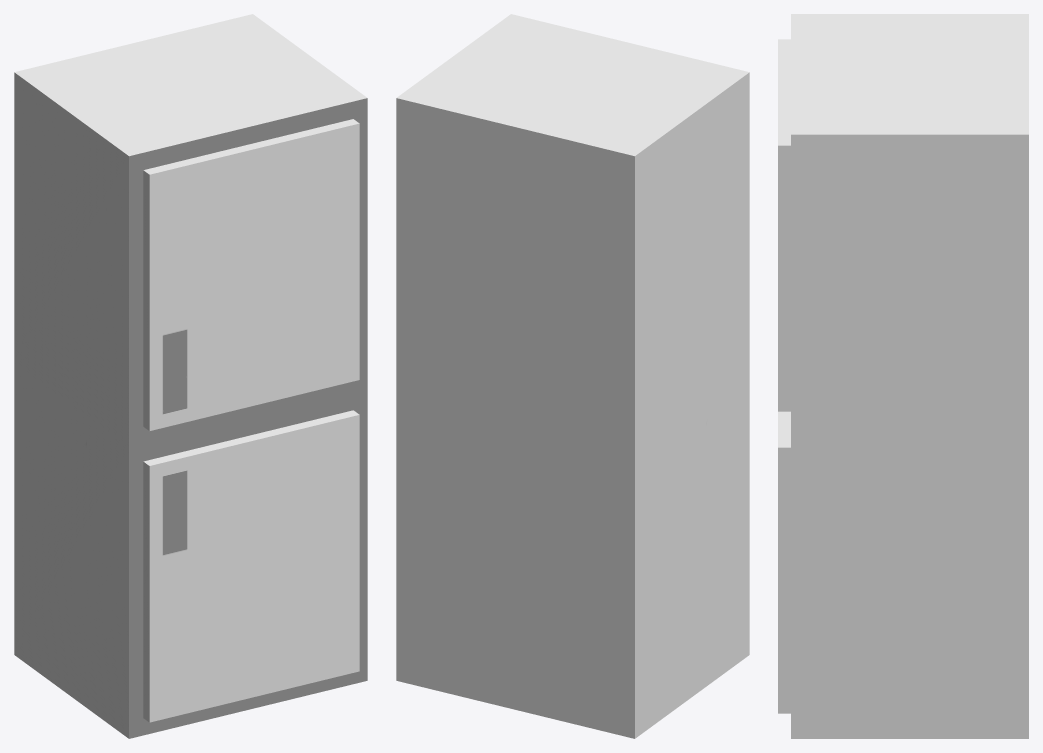
File: fridge.fbx
The picture shows the model from 3 angles, left to right: view 1: azimuth 30°, elevation 25°; view 2: azimuth 150°, elevation 25°; view 3: azimuth 270°, elevation 25°; orthographic projection. The views are drawn at different scales.
Parts seen in each view (by area): view 1: pCube1; view 2: pCube1; view 3: pCube1.
Part boxes in pixels (left/top/right/bottom): pCube1: left=14, top=14, right=367, bottom=738; pCube1: left=396, top=14, right=749, bottom=738; pCube1: left=778, top=14, right=1028, bottom=738.
Bounding box in the file's own units: 7.5 × 17.5 × 6.59.
Materials: 1 (1 with a texture image).
